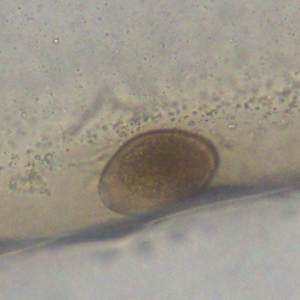Fasciola_hepatica_egg: (96, 128, 220, 220)
